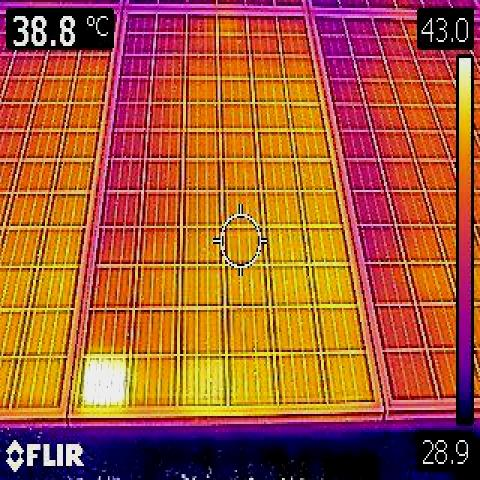fault: (85, 357, 126, 405)
